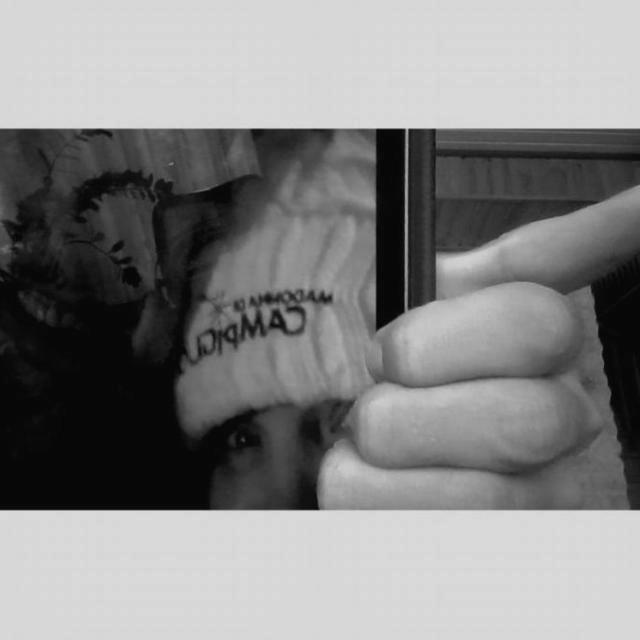fake: (0, 127, 413, 508)
